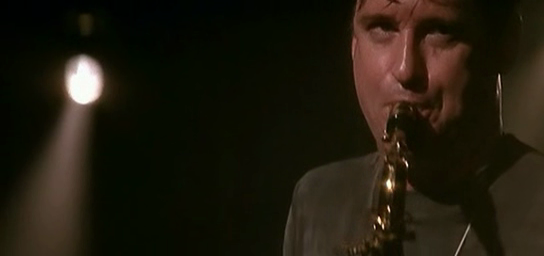cu: (1, 1, 544, 256)
face: (355, 1, 485, 166)
person: (281, 1, 544, 256)
